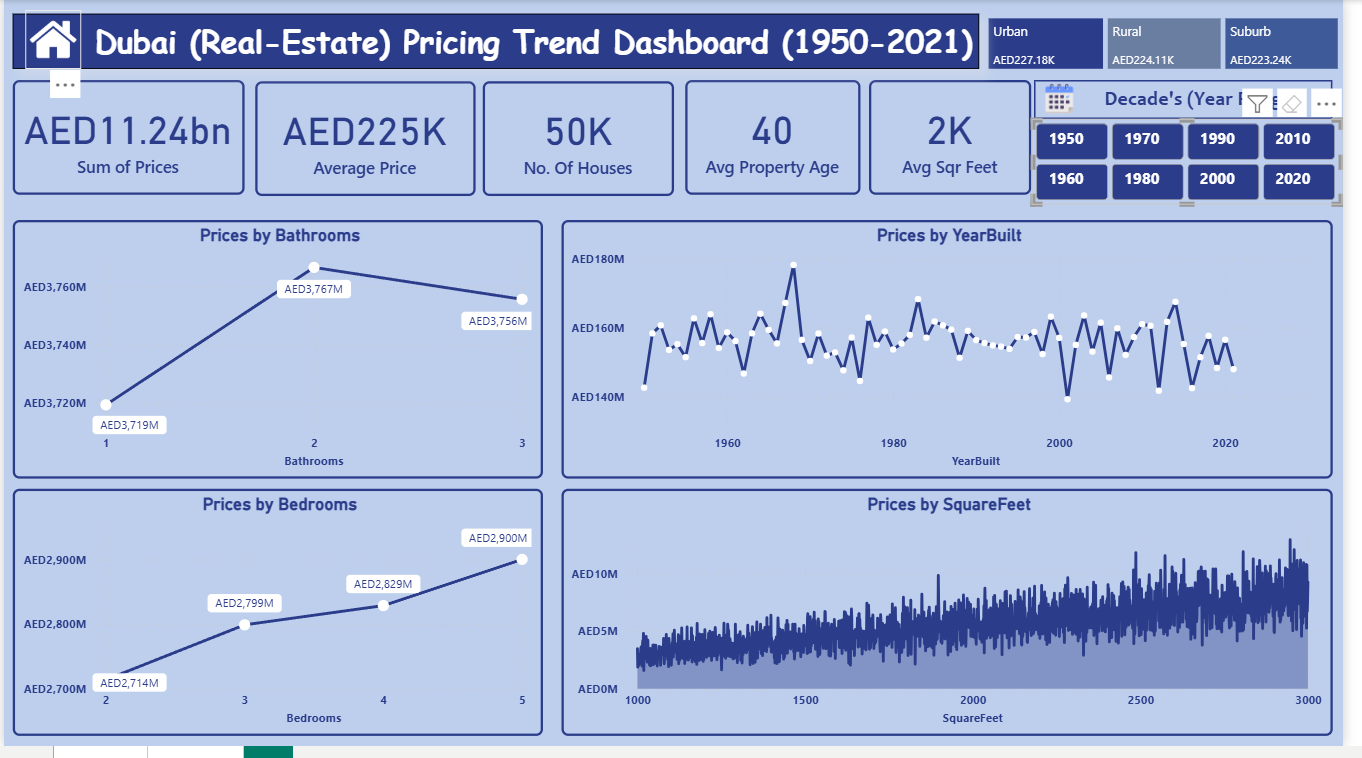

The page's visual inventory and layout, read from the dashboard file:
{"tool":"powerbi","page":{"name":"Page 1","canvas":[1400,780],"ordinal":0},"visuals":[{"type":"stackedAreaChart","title":"Prices by SquareFeet","fields":{"Category":["housing_price_dataset.SquareFeet"],"Y":["Sum(housing_price_dataset.Prices)"]},"box":[582.9,511,806.4,258.8],"z":0},{"type":"treemap","title":"Neighborhood","fields":{"Group":["housing_price_dataset.Neighborhood"],"Values":["Avg(housing_price_dataset.Prices)"]},"box":[1024.7,14.4,375.1,62.7],"z":1000},{"type":"lineChart","fields":{"Category":["housing_price_dataset.Bedrooms"],"Y":["Sum(housing_price_dataset.Prices)"]},"box":[9.1,511,554.2,258.8],"z":2000},{"type":"lineChart","fields":{"Category":["housing_price_dataset.Bathrooms"],"Y":["Sum(housing_price_dataset.Prices)"]},"box":[9.1,230,554.2,270.5],"z":3000},{"type":"card","fields":{"Values":["Avg(housing_price_dataset.Price)"]},"box":[262.7,85,230,120],"z":4000},{"type":"card","fields":{"Values":["Avg(housing_price_dataset.SquareFeet)"]},"box":[904.4,83.6,169.9,120.2],"z":5000},{"type":"card","fields":{"Values":["housing_price_dataset.Avg Propert Age"]},"box":[712.3,83.6,183,120.2],"z":6000},{"type":"card","title":"Sum of Price","fields":{"Values":["Sum(housing_price_dataset.Prices)"]},"box":[9.1,83.6,242,120],"z":7000},{"type":"textbox","box":[9.1,14.4,1010.3,57.5],"z":8000},{"type":"image","box":[22.2,10.5,58.8,61.4],"z":9000},{"type":"lineChart","title":"Prices by YearBuilt","fields":{"Y":["Sum(housing_price_dataset.Prices)"],"Category":["housing_price_dataset.YearBuilt"]},"box":[582.9,230,806.4,270.5],"z":10000},{"type":"card","fields":{"Values":["housing_price_dataset.No. Of Houses"]},"box":[500.6,85,200,120.2],"z":11000},{"type":"advancedSlicerVisual","title":"Year Range","fields":{"Values":["housing_price_dataset.Decade"]},"box":[1074.3,124.2,325.4,90.2],"z":12000},{"type":"textbox","box":[1076.9,83.6,312.4,40.5],"z":13000},{"type":"image","box":[1076.9,82.3,53.6,41.8],"z":14000}]}

Visuals, with their boxes in screenshot pixels (x1, y1, x2, y2), scaled from the page's 1400x780 canvas onto the 1362x758 screenshot:
"Prices by SquareFeet" stackedAreaChart: bbox(567, 497, 1352, 748)
"Neighborhood" treemap: bbox(997, 14, 1361, 75)
lineChart - housing_price_dataset.Bedrooms x Sum(housing_price_dataset.Prices): bbox(9, 497, 548, 748)
lineChart - housing_price_dataset.Bathrooms x Sum(housing_price_dataset.Prices): bbox(9, 224, 548, 486)
card - Avg(housing_price_dataset.Price): bbox(256, 83, 479, 199)
card - Avg(housing_price_dataset.SquareFeet): bbox(880, 81, 1045, 198)
card - housing_price_dataset.Avg Propert Age: bbox(693, 81, 871, 198)
"Sum of Price" card: bbox(9, 81, 244, 198)
textbox: bbox(9, 14, 992, 70)
image: bbox(22, 10, 79, 70)
"Prices by YearBuilt" lineChart: bbox(567, 224, 1352, 486)
card - housing_price_dataset.No. Of Houses: bbox(487, 83, 682, 199)
"Year Range" advancedSlicerVisual: bbox(1045, 121, 1361, 208)
textbox: bbox(1048, 81, 1352, 121)
image: bbox(1048, 80, 1100, 121)
